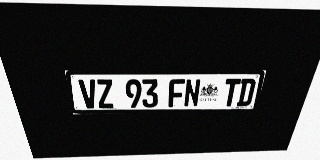3: (142, 79, 158, 108)
9: (125, 79, 142, 108)
D: (236, 79, 257, 106)
F: (168, 79, 185, 107)
N: (183, 79, 201, 107)
T: (221, 79, 241, 106)
V: (78, 79, 98, 108)
Z: (95, 79, 114, 108)
